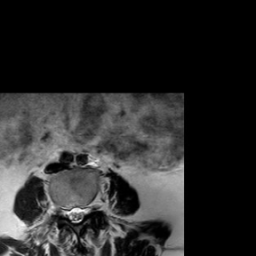CCS_normal: (72, 196, 78, 230)
LFS_normal: (85, 194, 94, 221)
LLS_normal: (78, 197, 85, 226)
RFS_normal: (58, 196, 65, 226)
RLS_normal: (65, 198, 72, 225)
